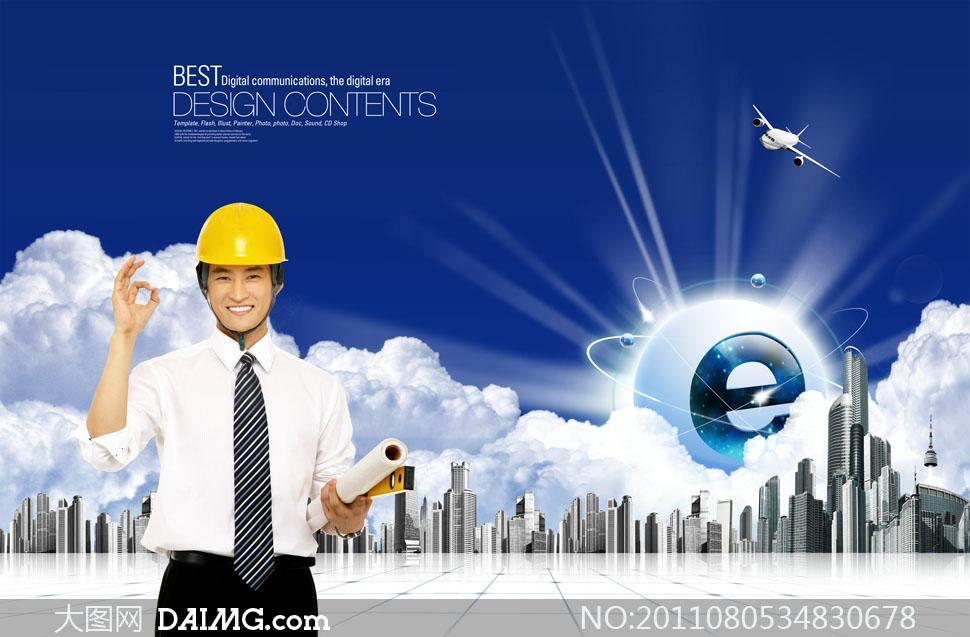helmet: (195, 204, 292, 266)
